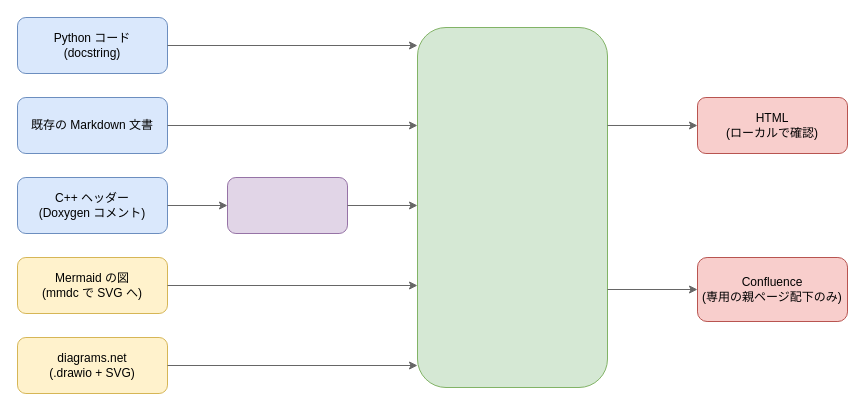
Image size: 865x411. Some labels were removed from this diagram. Each missing label, with the centre of its shape:
"Doxygen → XML" belongs at (x=287, y=205).
"Sphinx autodoc / napoleon / MyST (-W: 警告はエラー)" belongs at (x=512, y=207).
